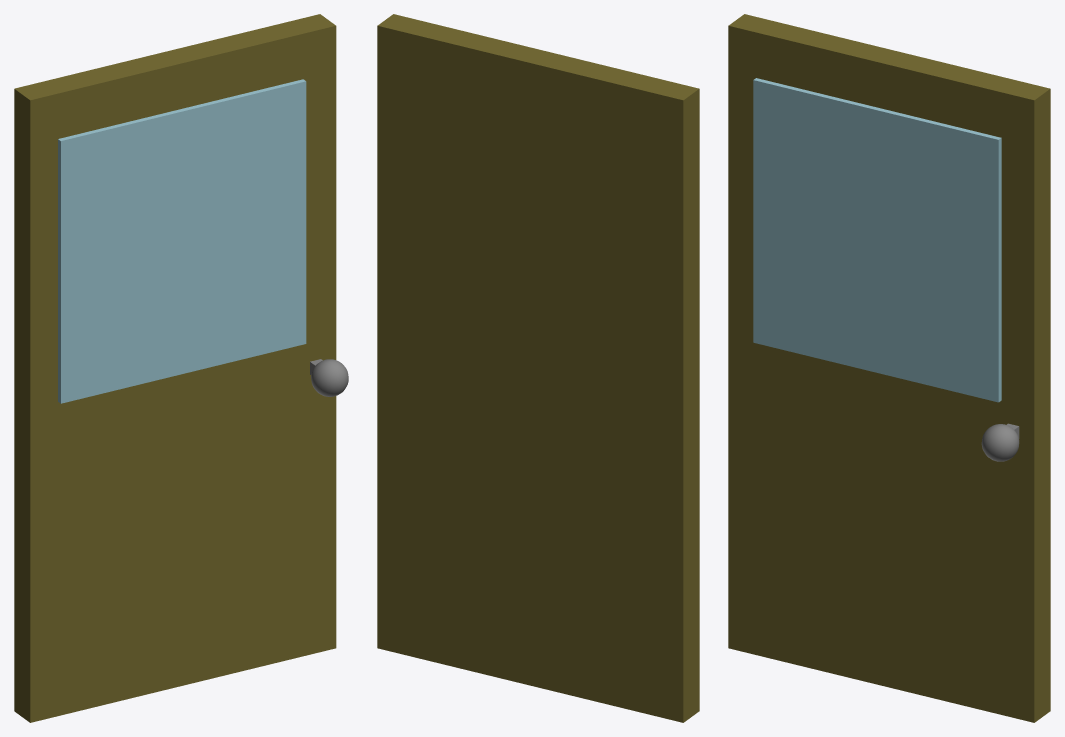
The model's file is Furniture_doormodel_GameJam.fbx.
3 views of the same model, side by side, from view 1: azimuth 30°, elevation 25°; view 2: azimuth 150°, elevation 25°; view 3: azimuth 330°, elevation 25° (orthographic).
Visible parts, largest first — view 1: kknob1; view 2: kknob1; view 3: kknob1.
Boxes of the visible parts, x1,y1,x2,y2 form: kknob1: [14, 14, 348, 722]; kknob1: [377, 14, 699, 722]; kknob1: [728, 14, 1050, 722].
Bounding box in the file's own units: 3.46 × 6.73 × 0.7699.
